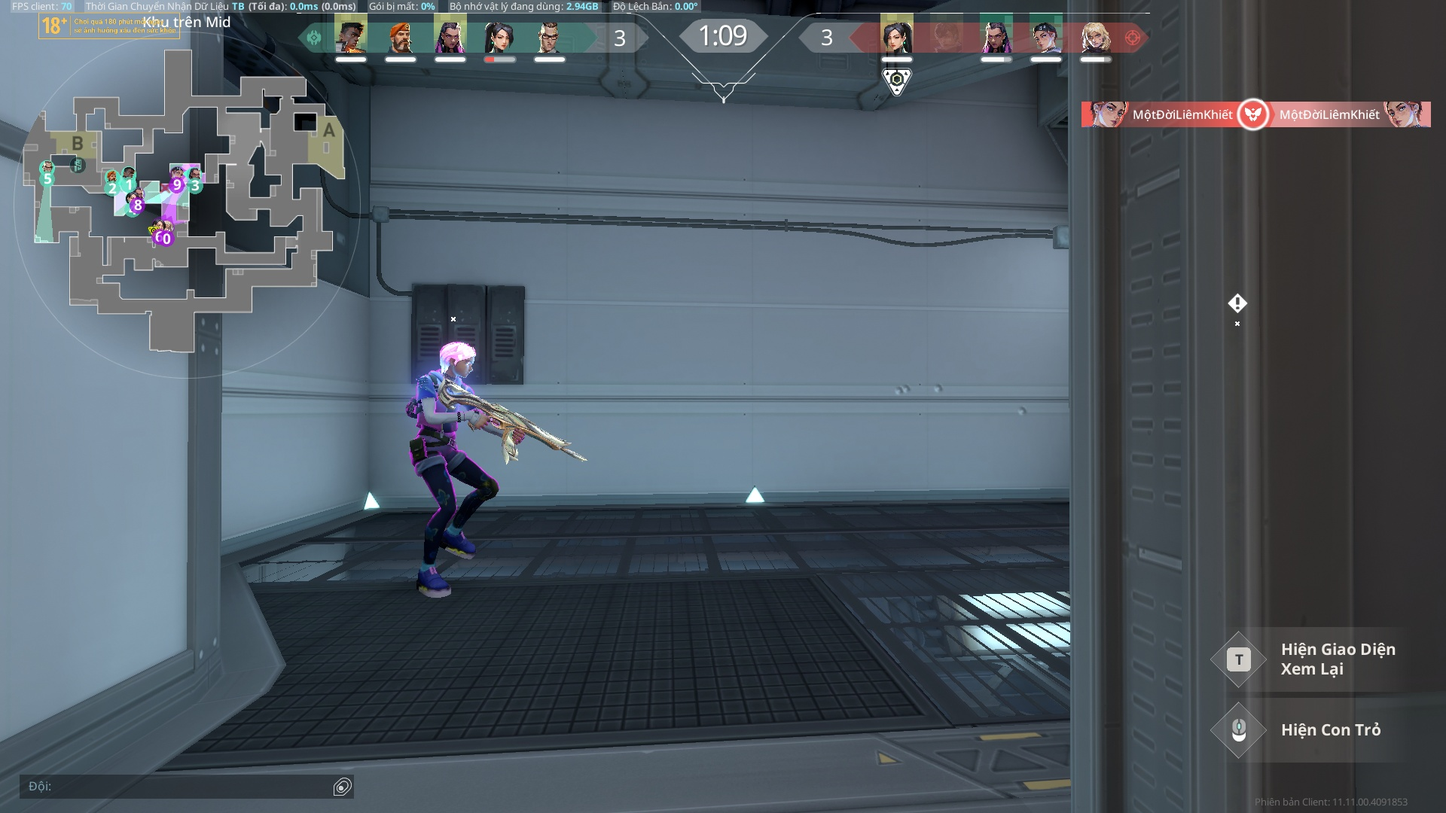body: (417, 370, 464, 438)
head: (437, 340, 473, 375)
